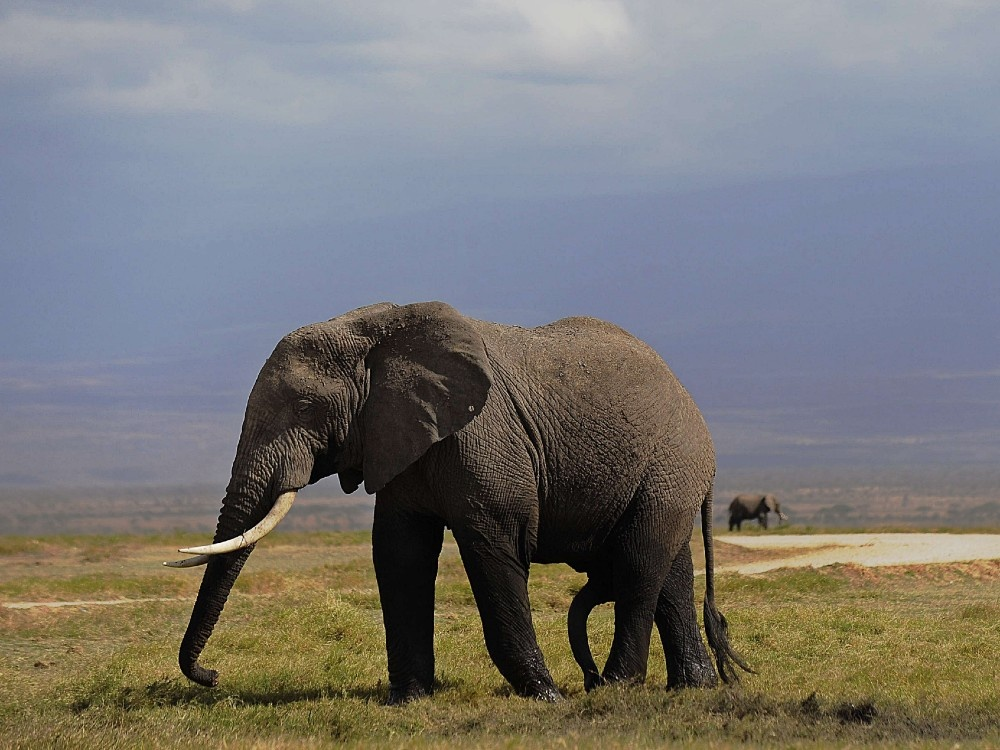elephant: (166, 296, 720, 697), (723, 485, 789, 538)
